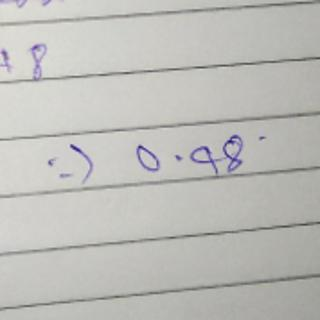.: (251, 128, 271, 145), (173, 149, 185, 167)
0: (134, 141, 164, 175)
4: (189, 143, 224, 177)
8: (222, 131, 246, 172), (29, 41, 52, 83)
